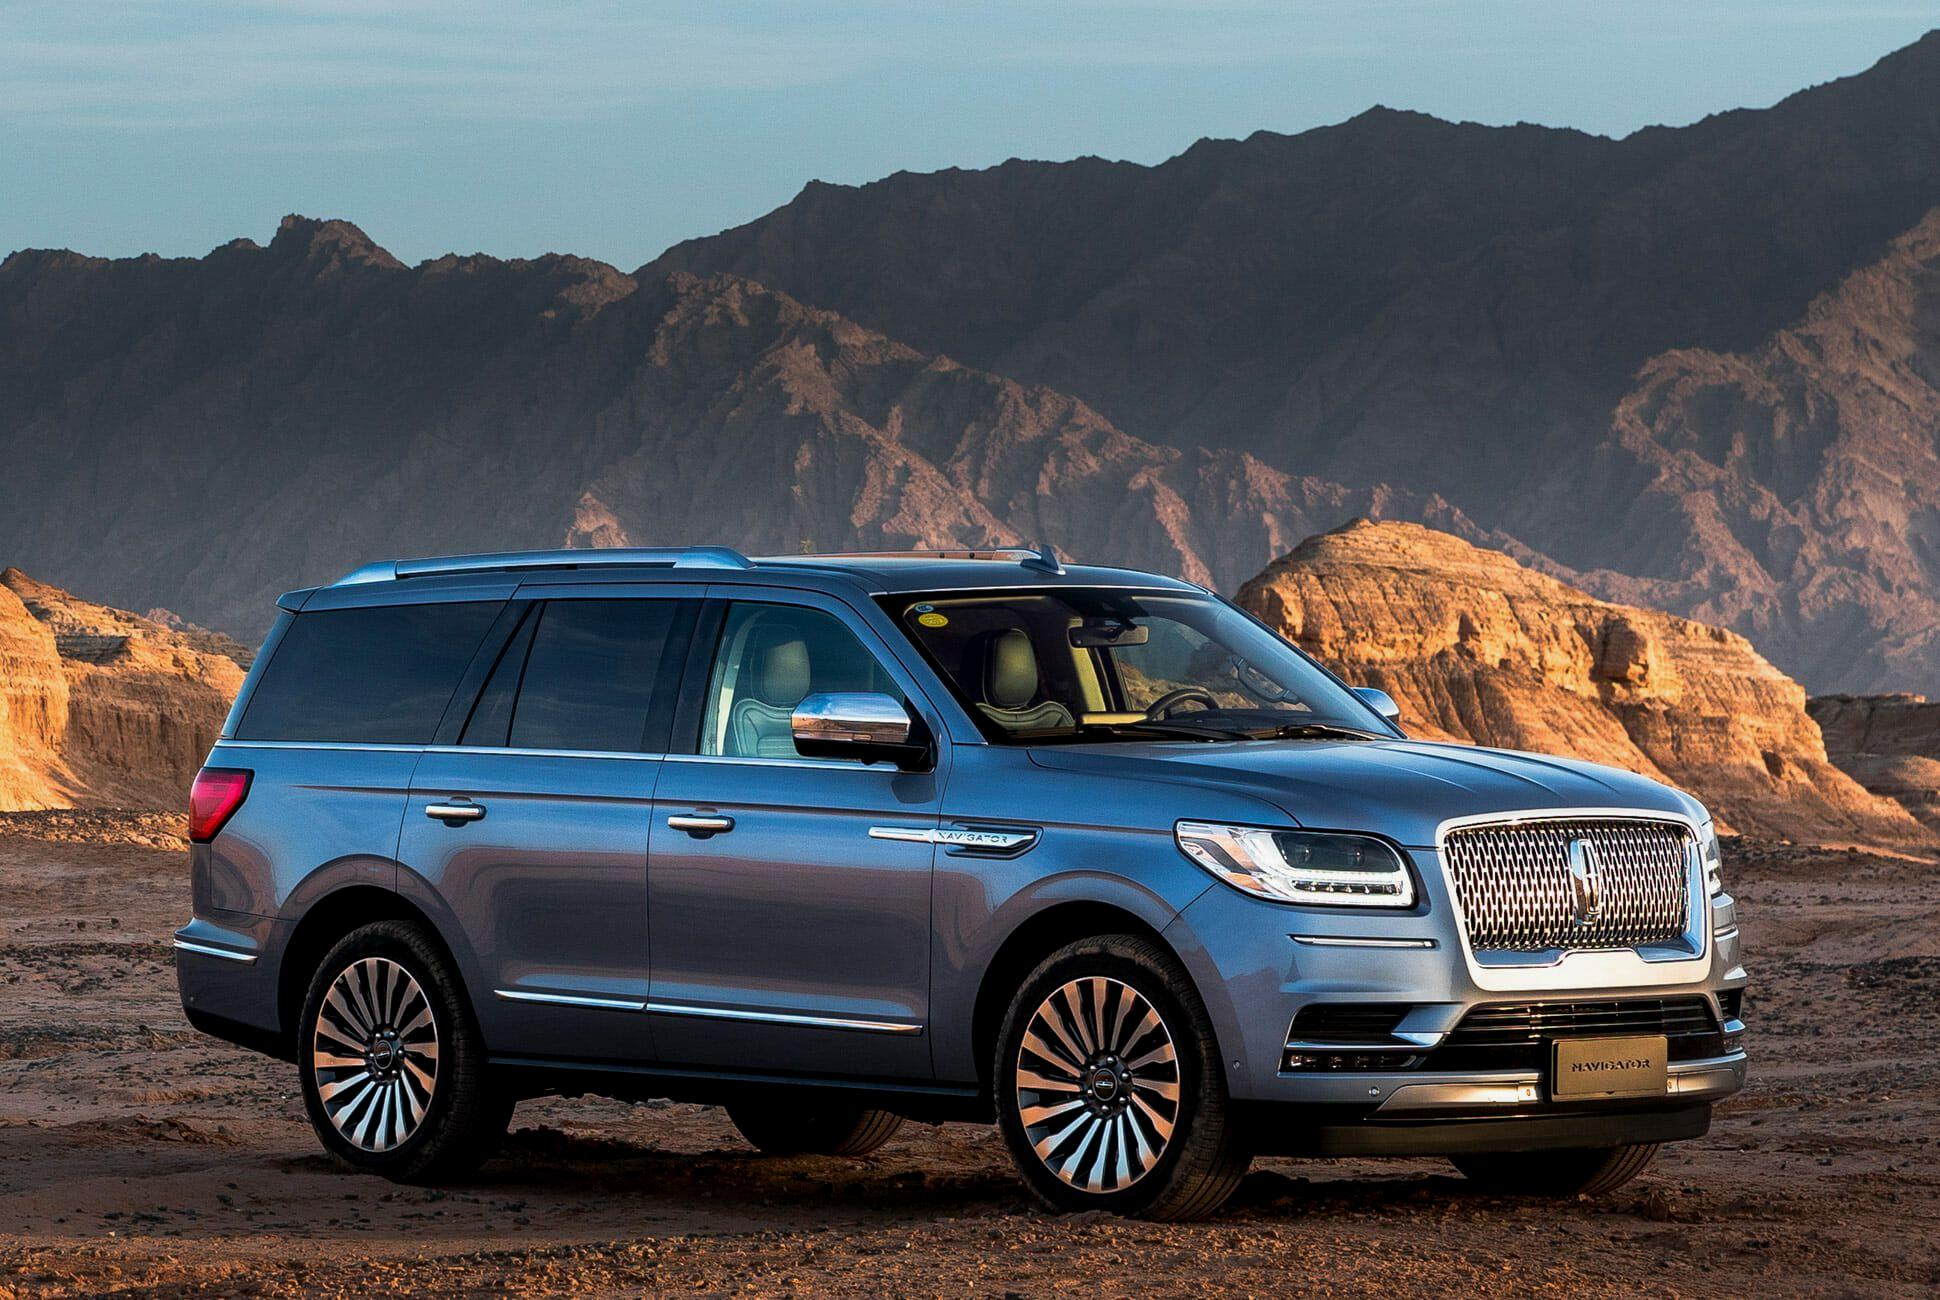lincoln: (1574, 837, 1609, 923)
